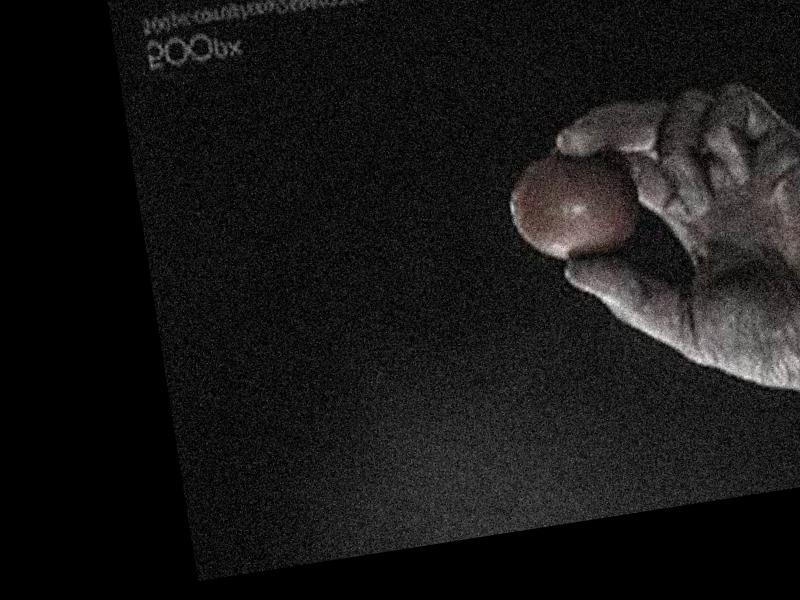Eggs: (504, 144, 650, 271)
